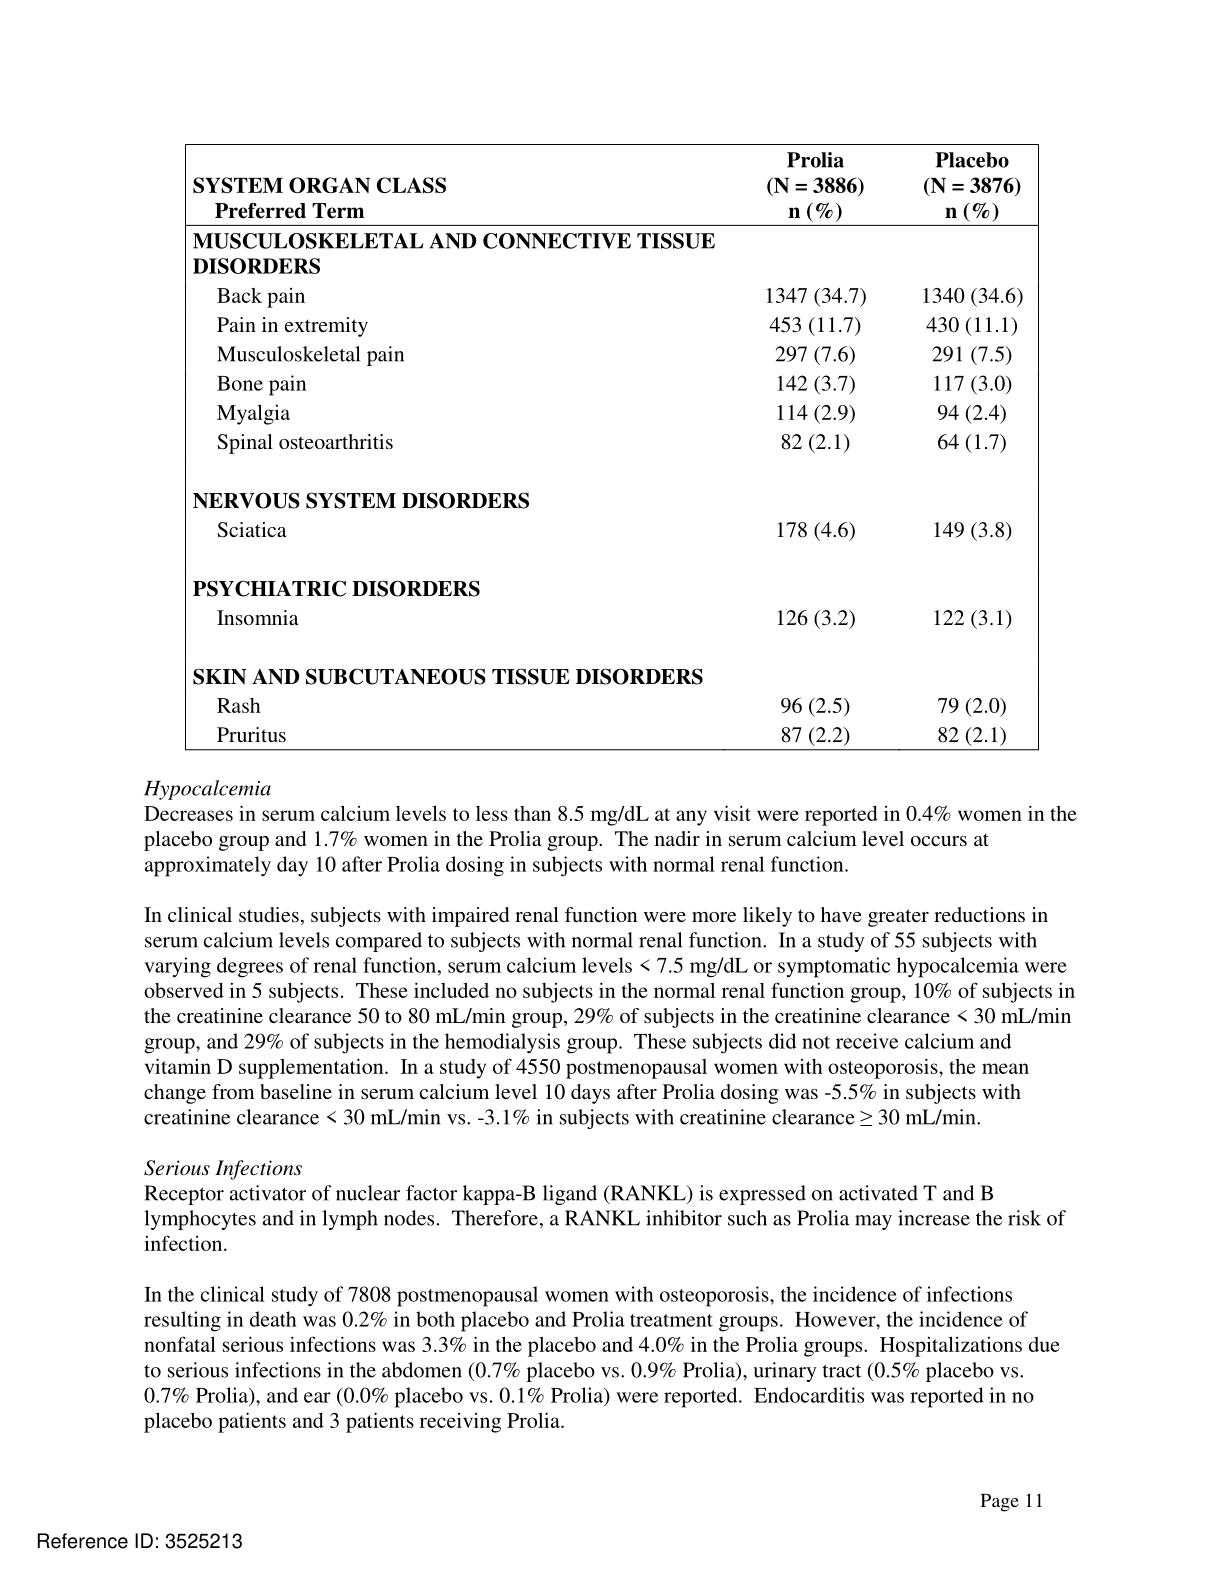partial_lined: (184, 143, 1040, 752)
